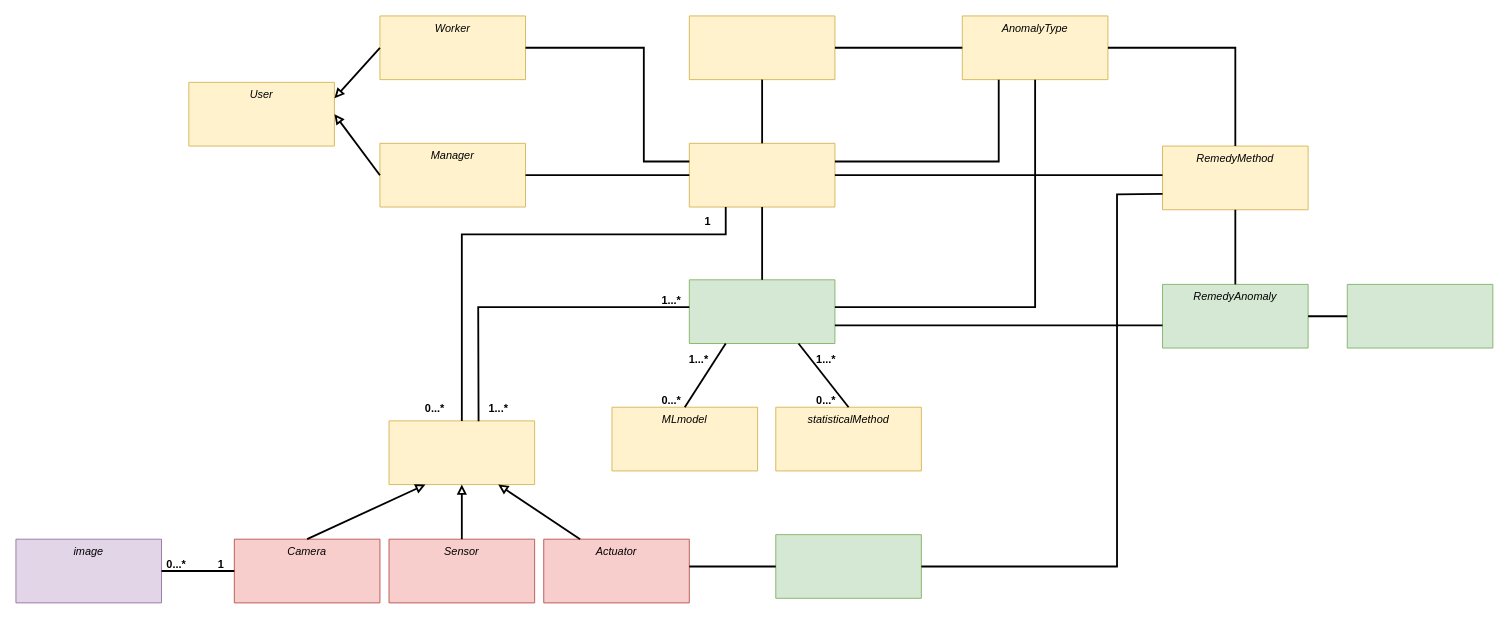
This 1509x619 diagram has some shape labels left out. The shapes that lost their labels are listed below. From the top down, each one's centre as x and y in pixels, then its label:
At pixel 761 47: "Managed Object".
At pixel 761 174: "Manufacturing plant".
At pixel 761 311: "AnomalyOccurence".
At pixel 1419 315: "RemedyResult".
At pixel 461 452: "Hardware device".
At pixel 848 566: "Action".
